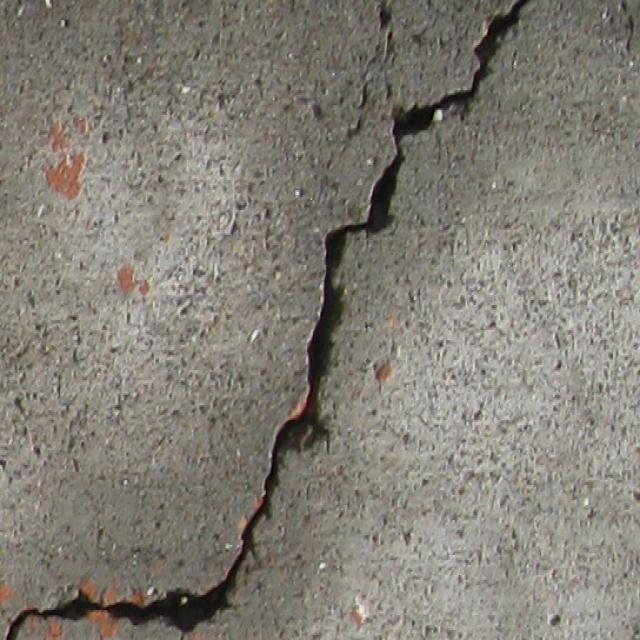Diagonal: (20, 0, 530, 640)
